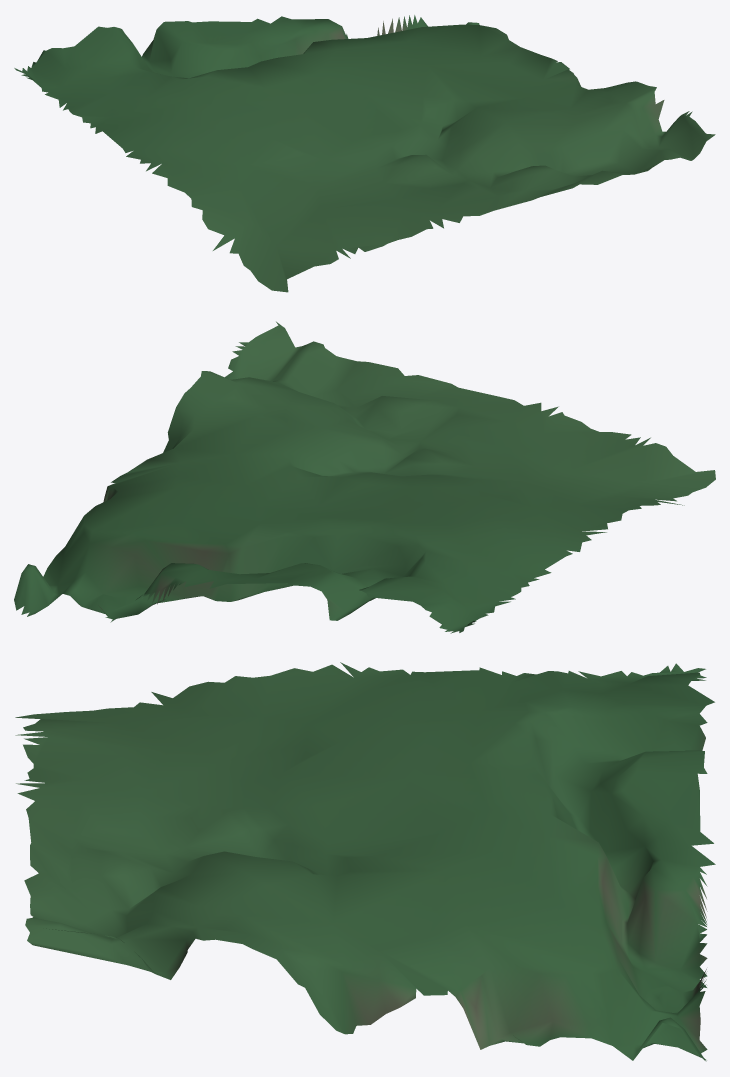
File: payo_land_xm2_y8_lod2.glb
3 views of the same model, one above another, from view 1: azimuth 30°, elevation 25°; view 2: azimuth 150°, elevation 25°; view 3: azimuth 270°, elevation 25° (orthographic). The views are drawn at different scales.
Visible parts, largest first — view 1: payo_land_xm2_y8; view 2: payo_land_xm2_y8; view 3: payo_land_xm2_y8.
Boxes of the visible parts, box(x1,y1,x2,y2) form: payo_land_xm2_y8: box(14, 15, 715, 292); payo_land_xm2_y8: box(14, 321, 715, 633); payo_land_xm2_y8: box(15, 662, 715, 1061).
Bounding box in the file's own units: 268 × 58.51 × 267.
